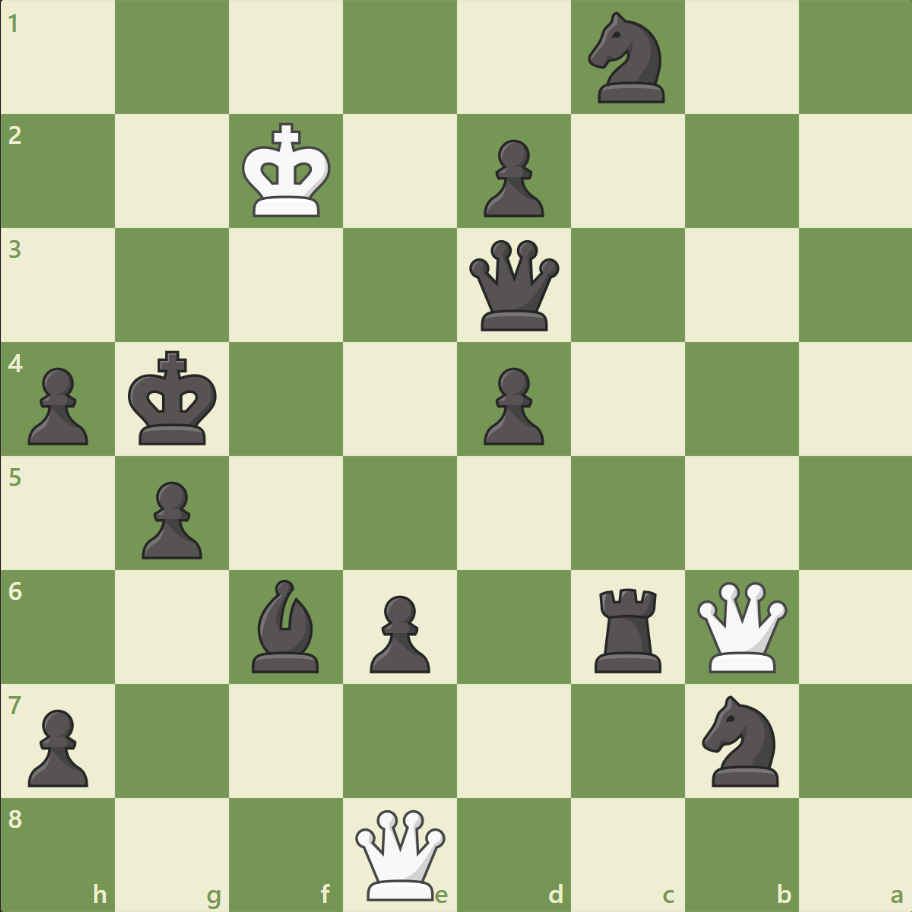K: (238, 117, 338, 225)
Q: (691, 576, 790, 676), (351, 804, 450, 903)
b: (244, 574, 328, 676)
k: (124, 344, 224, 452)
n: (692, 688, 789, 791), (579, 7, 676, 110)
p: (20, 700, 95, 791), (133, 473, 208, 564), (474, 359, 549, 450), (20, 359, 95, 450), (474, 132, 549, 223), (361, 586, 435, 677)
q: (464, 236, 563, 335)
r: (587, 579, 670, 676)
